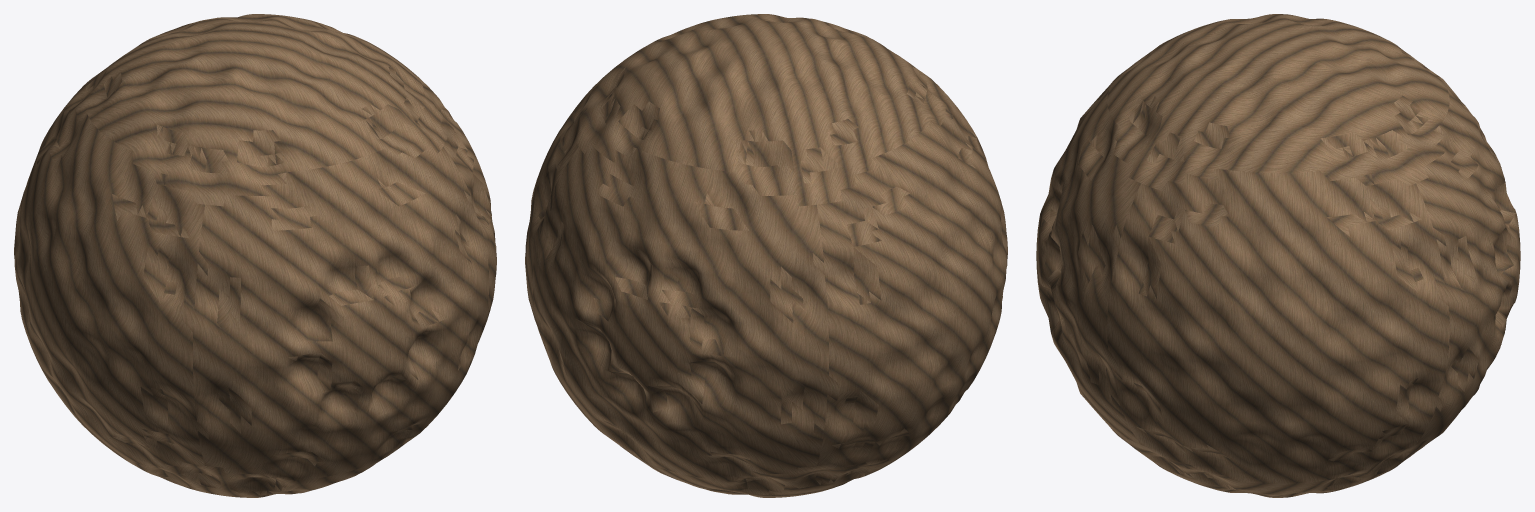
The model's file is lv 3 bala.FBX.
3 views of the same model, side by side, from view 1: azimuth 30°, elevation 25°; view 2: azimuth 150°, elevation 25°; view 3: azimuth 270°, elevation 25° (orthographic).
Visible parts, largest first — view 1: PM3D_Sphere3D_1; view 2: PM3D_Sphere3D_1; view 3: PM3D_Sphere3D_1.
Boxes of the visible parts, left/top/right/bottom form: PM3D_Sphere3D_1: left=14, top=14, right=496, bottom=497; PM3D_Sphere3D_1: left=525, top=14, right=1007, bottom=497; PM3D_Sphere3D_1: left=1036, top=14, right=1520, bottom=497.
Bounding box in the file's own units: 3.84 × 3.84 × 3.84.
